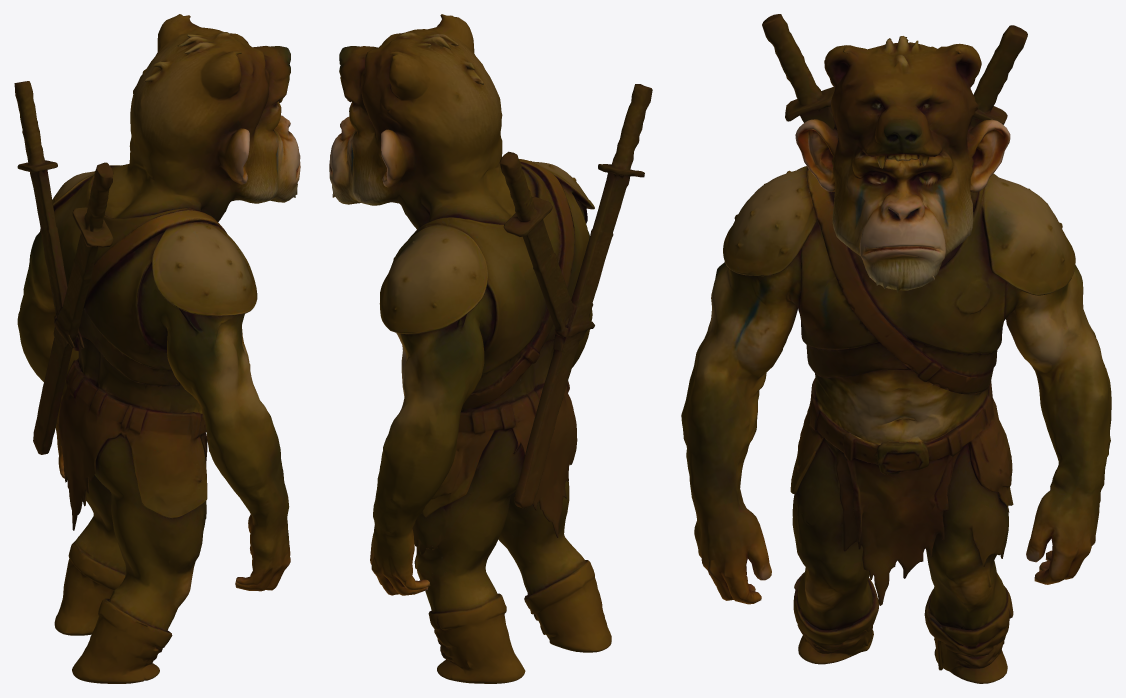
File: AAPE.glb
The picture shows the model from 3 angles, left to right: view 1: azimuth 30°, elevation 25°; view 2: azimuth 150°, elevation 25°; view 3: azimuth 270°, elevation 25°; orthographic projection. The views are drawn at different scales.
Visible parts, largest first — view 1: tripo_node_6ba06edf-9bb3-44fc-acdc-4f63f735fee4; view 2: tripo_node_6ba06edf-9bb3-44fc-acdc-4f63f735fee4; view 3: tripo_node_6ba06edf-9bb3-44fc-acdc-4f63f735fee4.
Part boxes in pixels (box(x1,y1,x2,y2)): tripo_node_6ba06edf-9bb3-44fc-acdc-4f63f735fee4: box(14, 14, 300, 683); tripo_node_6ba06edf-9bb3-44fc-acdc-4f63f735fee4: box(329, 14, 652, 683); tripo_node_6ba06edf-9bb3-44fc-acdc-4f63f735fee4: box(681, 14, 1111, 683).
Bounding box in the file's own units: 0.4578 × 1 × 0.5837.
Materials: 1 (1 with a texture image).
